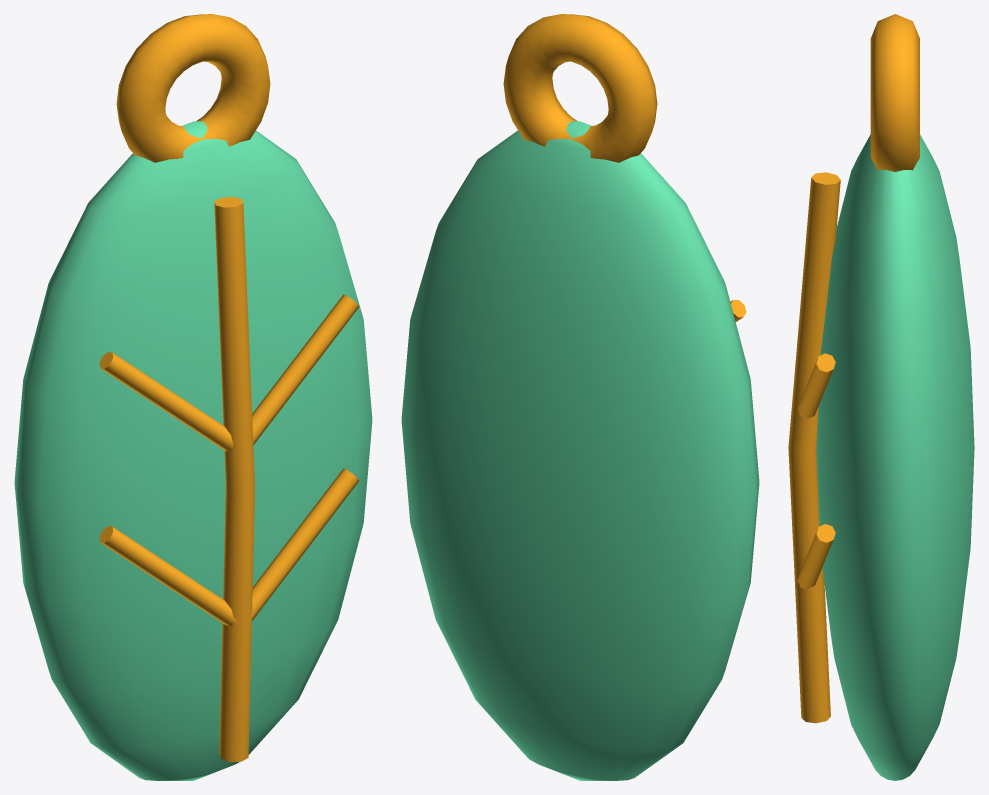
The model's file is jadeleaf.glb.
3 renders of one model, left to right at view 1: azimuth 30°, elevation 25°; view 2: azimuth 150°, elevation 25°; view 3: azimuth 270°, elevation 25°, orthographic. The views are drawn at different scales.
Visible parts, largest first — view 1: jadeleaf; view 2: jadeleaf; view 3: jadeleaf.
Boxes of the visible parts, x1,y1,x2,y2 form: jadeleaf: [14, 14, 372, 780]; jadeleaf: [401, 14, 759, 780]; jadeleaf: [788, 14, 974, 780].
Size of the model in its own units: 0.479 by 1 by 0.2251.
1 material, 1 textured.
